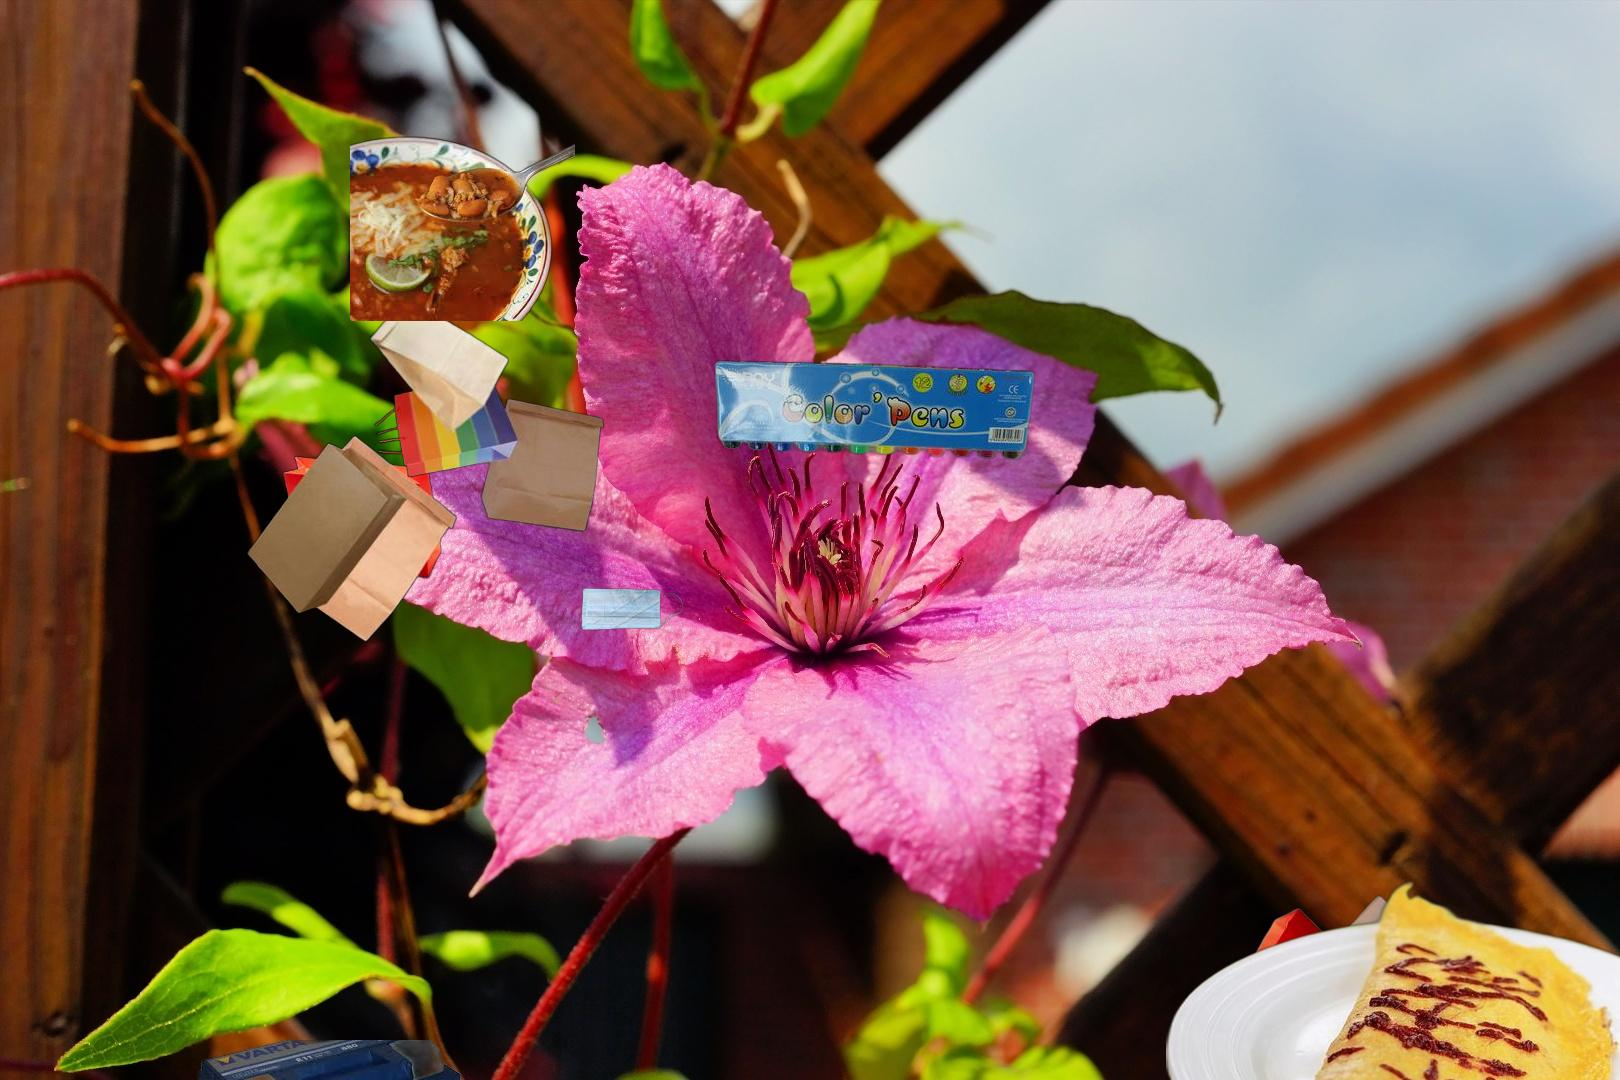battery: (174, 1040, 474, 1080)
biological: (1166, 829, 1620, 1080), (350, 134, 575, 321)
paper-bag: (354, 264, 607, 533), (1234, 892, 1475, 1080), (243, 433, 458, 642)
penholder: (711, 358, 1038, 463)
trash: (559, 585, 685, 633)
